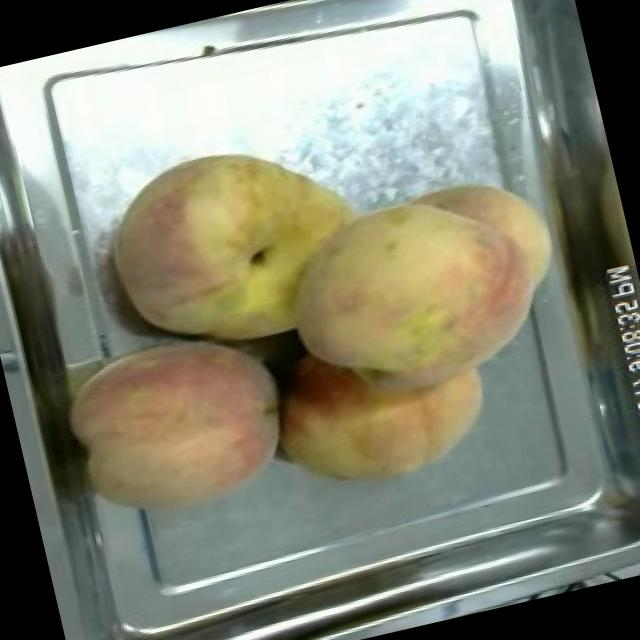Fruit: (252, 146, 609, 503), (87, 111, 396, 385), (44, 304, 308, 540), (255, 304, 512, 512)
